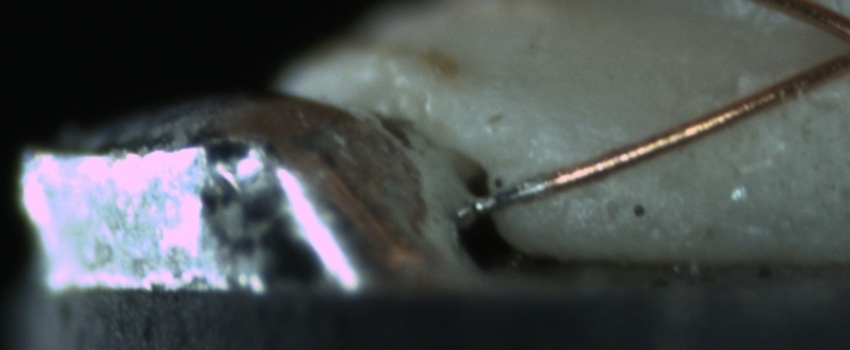TS: (462, 175, 554, 219)
